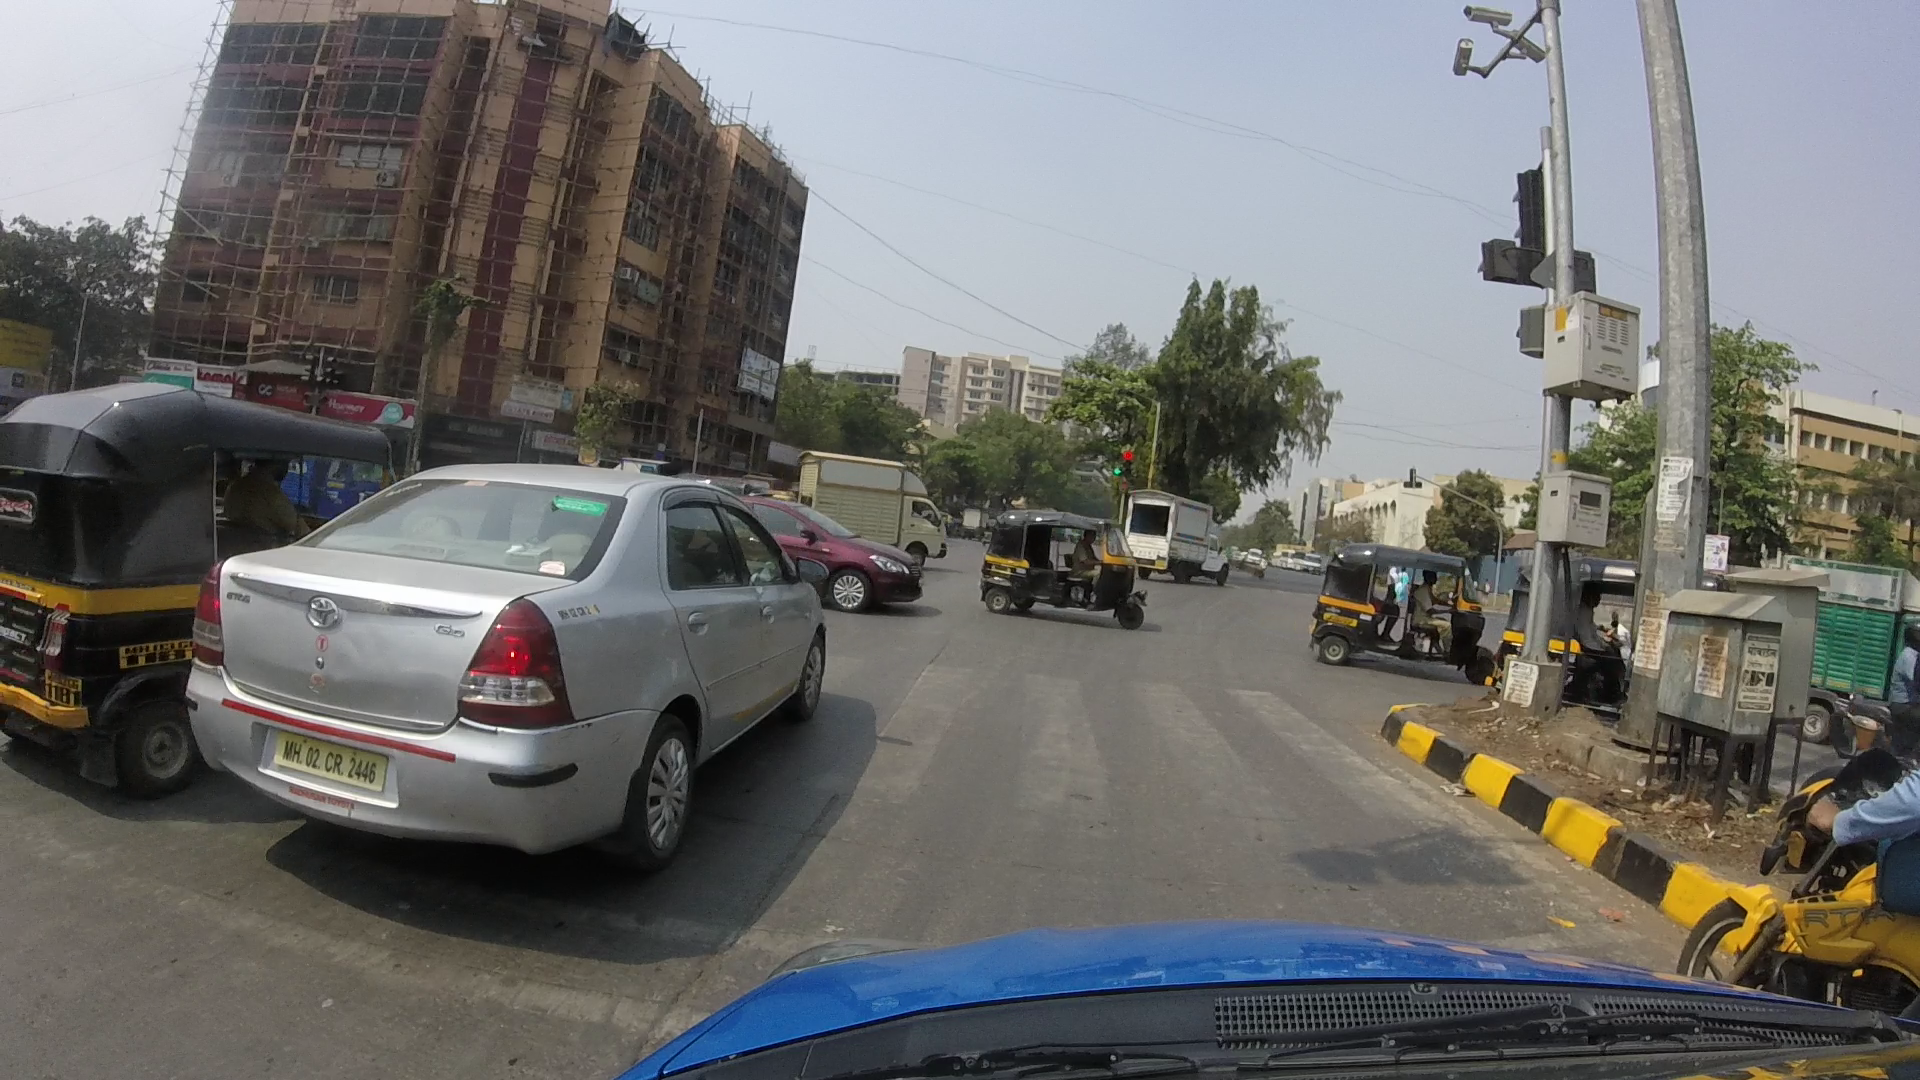bike/scooter: (1701, 731, 1920, 994)
car: (210, 422, 836, 855), (703, 459, 924, 599)
rickshaw: (1, 352, 375, 758), (1295, 504, 1495, 707), (980, 475, 1154, 663)
truck: (1771, 535, 1916, 725), (793, 433, 951, 555), (1116, 462, 1230, 575)
